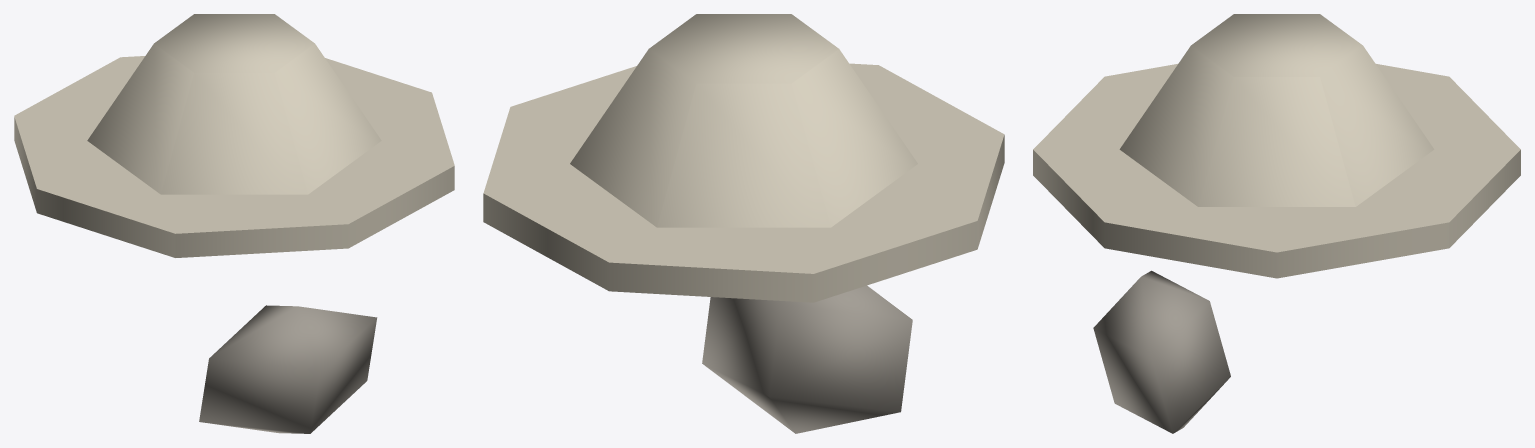
File: hat_explorer.glb
3 renders of one model, left to right at view 1: azimuth 30°, elevation 25°; view 2: azimuth 150°, elevation 25°; view 3: azimuth 270°, elevation 25°, orthographic. The views are drawn at different scales.
Parts seen in each view (by area): view 1: hat_explorer; view 2: hat_explorer; view 3: hat_explorer.
Part boxes in pixels (x1,y1,x2,y2): hat_explorer: (14, 14, 454, 433); hat_explorer: (483, 14, 1004, 433); hat_explorer: (1033, 14, 1520, 433).
Size of the model in its own units: 0.2295 by 0.1986 by 0.2295.
